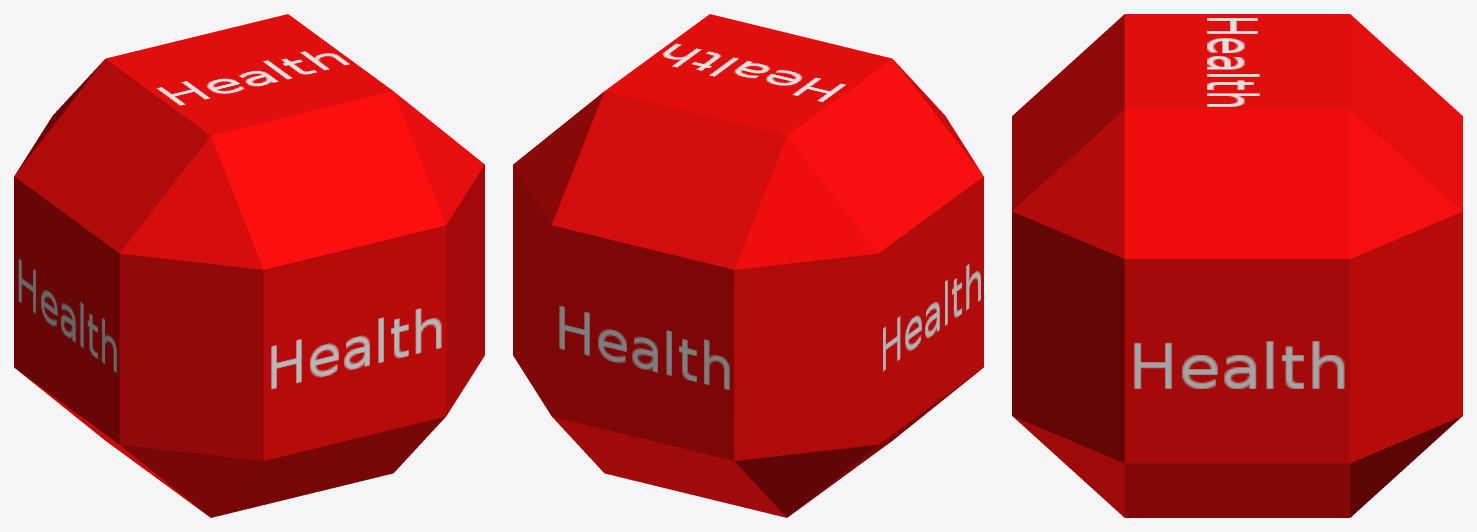
File: HealthCell.obj
3 renders of one model, left to right at view 1: azimuth 30°, elevation 25°; view 2: azimuth 150°, elevation 25°; view 3: azimuth 270°, elevation 25°, orthographic. The views are drawn at different scales.
Parts seen in each view (by area): view 1: pCube1; view 2: pCube1; view 3: pCube1.
Boxes of the visible parts, box(x1,y1,x2,y2) form: pCube1: box(14, 14, 484, 517); pCube1: box(513, 14, 983, 517); pCube1: box(1012, 14, 1462, 517).
Bounding box in the file's own units: 8.28 × 8.28 × 8.28.
